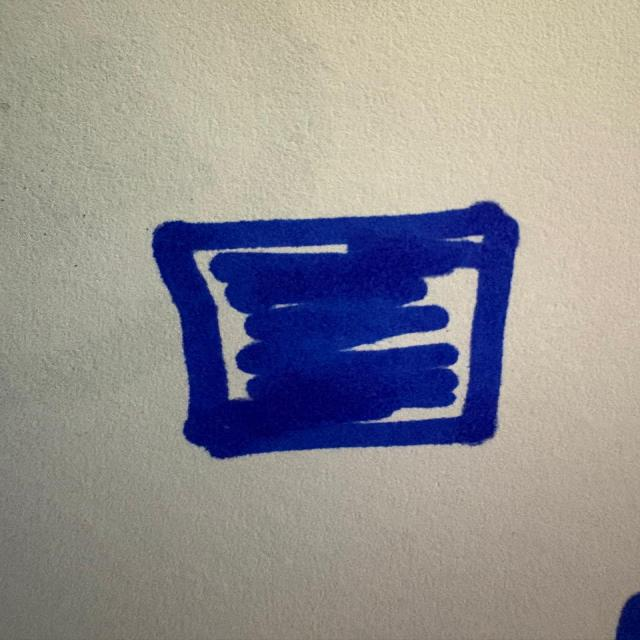Square: (142, 197, 524, 458)
